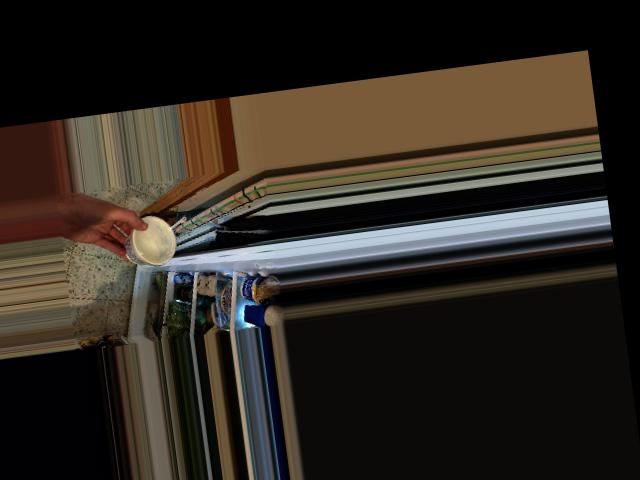cotage: (127, 218, 184, 267)
